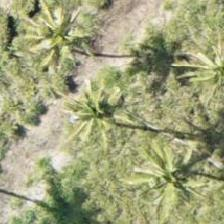coconut_tree: (124, 130, 214, 220), (51, 65, 141, 155), (15, 0, 105, 75), (174, 27, 223, 117)
